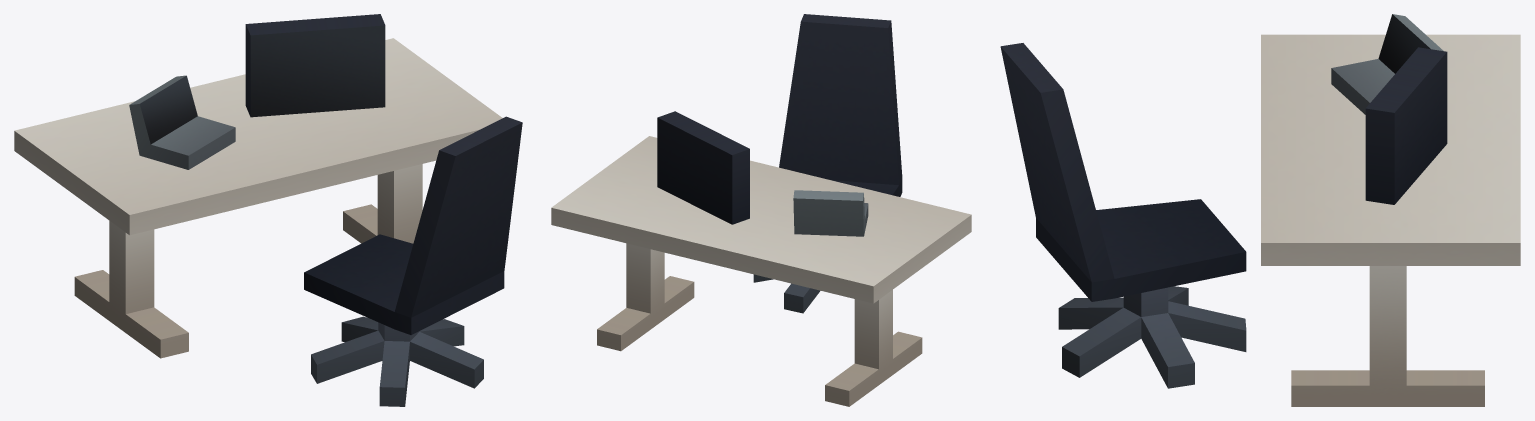
File: Desktop.FBX
The picture shows the model from 3 angles, left to right: view 1: azimuth 30°, elevation 25°; view 2: azimuth 150°, elevation 25°; view 3: azimuth 270°, elevation 25°; orthographic projection. The views are drawn at different scales.
Visible parts, largest first — view 1: Box314; view 2: Box314; view 3: Box314.
Part boxes in pixels (bbox=[...]): Box314: bbox=[14, 14, 522, 406]; Box314: bbox=[551, 14, 971, 406]; Box314: bbox=[1000, 14, 1520, 406].
Size of the model in its own units: 62.96 by 41.83 by 66.43.
